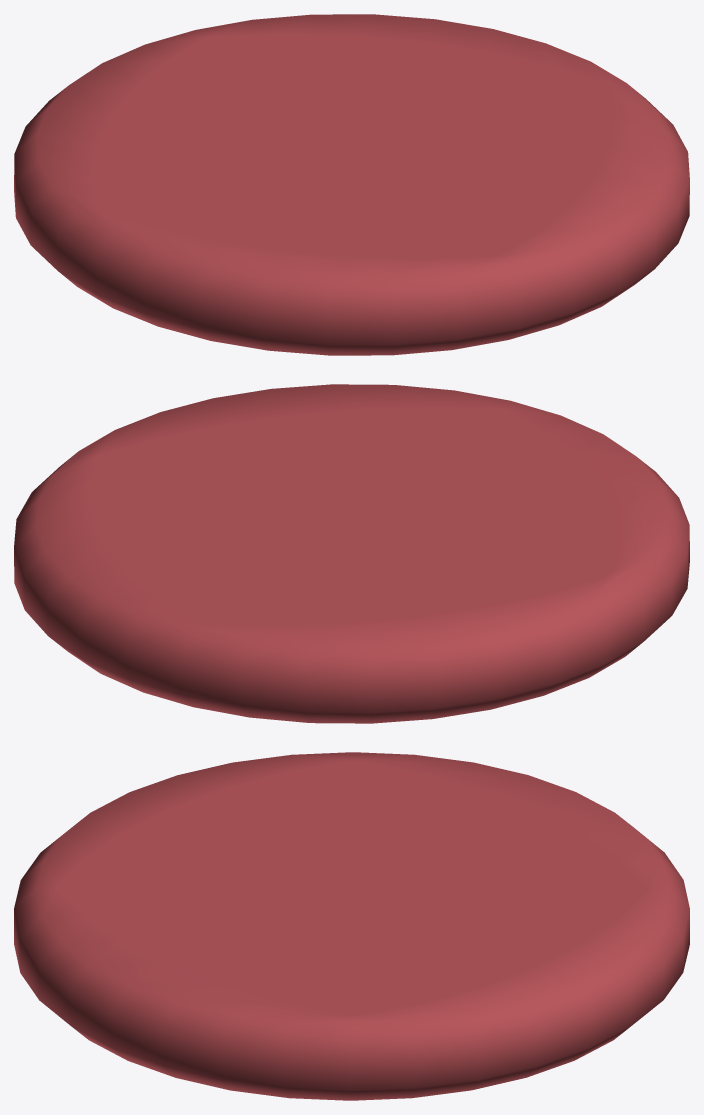
Rendered from Burger_not_ready 1.fbx.
The picture shows the model from 3 angles, top to bottom: view 1: azimuth 30°, elevation 25°; view 2: azimuth 150°, elevation 25°; view 3: azimuth 270°, elevation 25°; orthographic projection.
Visible parts, largest first — view 1: Cylinder.001; view 2: Cylinder.001; view 3: Cylinder.001.
Part boxes in pixels (bbox=[...]): Cylinder.001: bbox=[14, 14, 689, 355]; Cylinder.001: bbox=[14, 384, 689, 723]; Cylinder.001: bbox=[14, 752, 689, 1100].
Bounding box in the file's own units: 200 × 26.93 × 200.
